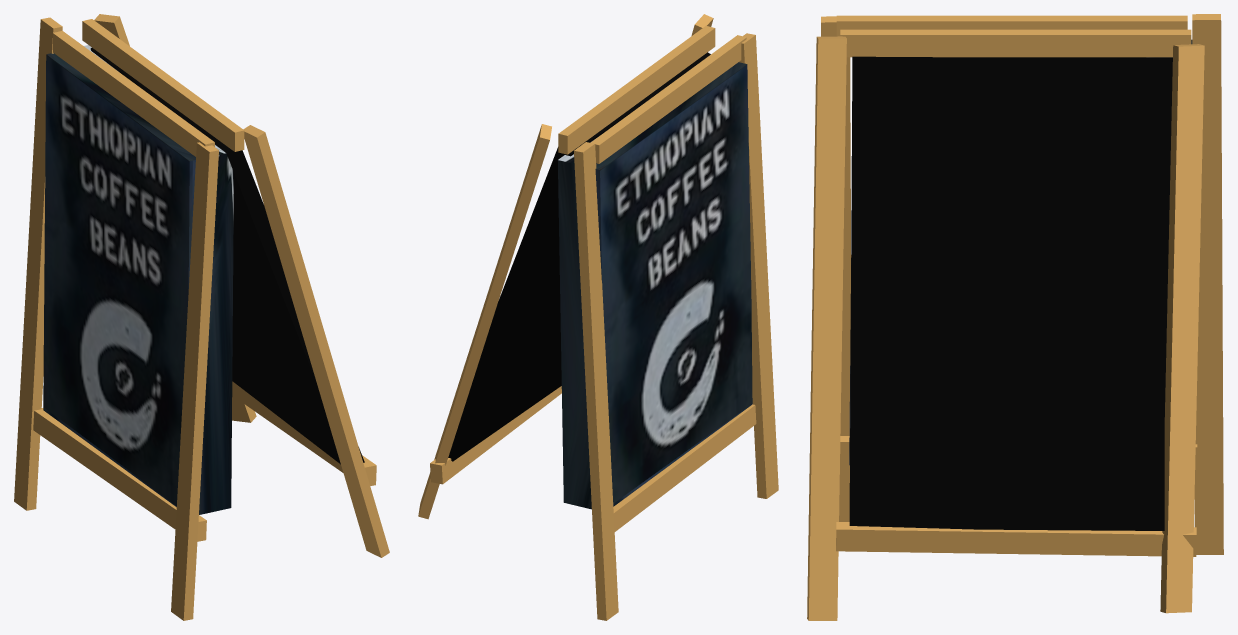
The model's file is coffee-ethoopian.fbx.
3 views of the same model, side by side, from view 1: azimuth 30°, elevation 25°; view 2: azimuth 150°, elevation 25°; view 3: azimuth 270°, elevation 25° (orthographic). The views are drawn at different scales.
Parts seen in each view (by area): view 1: Cube.002, Cube, Cube.003, Cube.001, Cube.008, top wood.002, top wood, top wood.001, top wood.003, Cube.004; view 2: Cube.002, Cube, Cube.008, Cube.003, Cube.004, top wood.002, top wood, top wood.001, top wood.003; view 3: Cube, Cube.004, Cube.001, Cube.008, top wood.002, top wood.003, top wood, Cube.003.
Part boxes in pixels (x1,y1,x2,y2): Cube.002: (43,45,233,514); Cube: (90,48,364,464); Cube.003: (171,142,218,620); Cube.001: (243,125,389,557); Cube.008: (14,17,62,510); top wood.002: (82,19,244,151); top wood: (53,30,214,156); top wood.001: (33,408,206,541); top wood.003: (232,381,376,485); Cube.004: (94,14,256,422); Cube.002: (558,62,752,509); Cube: (448,52,710,461); Cube.008: (574,142,618,620); Cube.003: (739,33,778,498); Cube.004: (418,124,551,519); top wood.002: (558,26,715,154); top wood: (590,35,746,163); top wood.001: (613,404,756,531); top wood.003: (430,386,561,484); Cube: (849,56,1172,530); Cube.004: (1160,44,1204,613); Cube.001: (807,36,846,620); Cube.008: (1192,14,1223,554); top wood.002: (840,29,1191,57); top wood.003: (836,522,1196,556); top wood: (836,15,1187,36); Cube.003: (821,16,851,521).
Size of the model in its own units: 761 by 1576 by 1076.
Materials: 9 (1 with a texture image).
